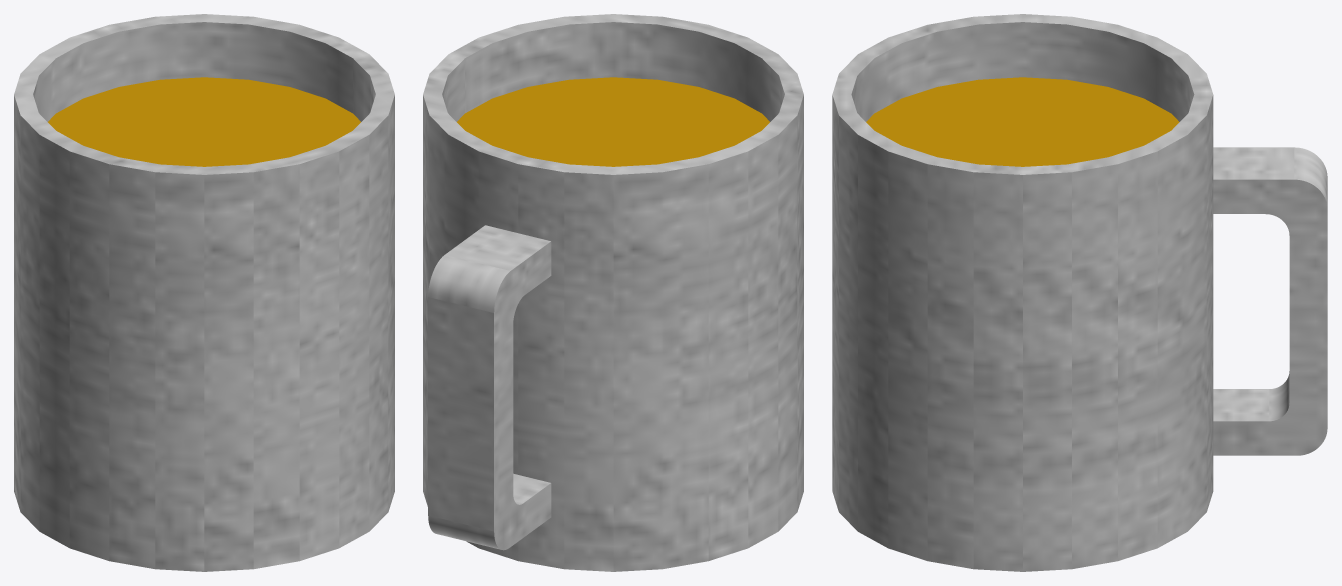
3 views of the same model, side by side, from view 1: azimuth 30°, elevation 25°; view 2: azimuth 150°, elevation 25°; view 3: azimuth 270°, elevation 25° (orthographic).
Visible parts, largest first — view 1: mesh2_mesh2-geometry, mesh2_mesh2-geometry_2; view 2: mesh2_mesh2-geometry, mesh1_mesh1-geometry, mesh2_mesh2-geometry_2; view 3: mesh2_mesh2-geometry, mesh1_mesh1-geometry, mesh2_mesh2-geometry_2.
Part boxes in pixels (x1,y1,x2,y2): mesh2_mesh2-geometry: (14, 14, 394, 571); mesh2_mesh2-geometry_2: (48, 77, 360, 166); mesh2_mesh2-geometry: (423, 14, 803, 571); mesh1_mesh1-geometry: (428, 225, 551, 550); mesh2_mesh2-geometry_2: (457, 77, 769, 166); mesh2_mesh2-geometry: (832, 14, 1213, 571); mesh1_mesh1-geometry: (1213, 147, 1327, 455); mesh2_mesh2-geometry_2: (866, 77, 1179, 166).
Bounding box in the file's own units: 0.4992 × 0.5741 × 0.649.
3 materials, 1 textured.
